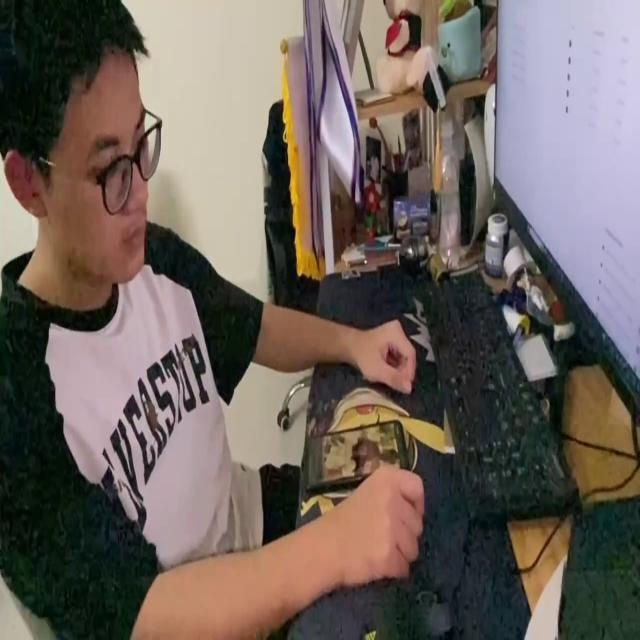laptop: (487, 0, 640, 423)
phone: (302, 416, 412, 497)
student: (2, 0, 427, 640)
